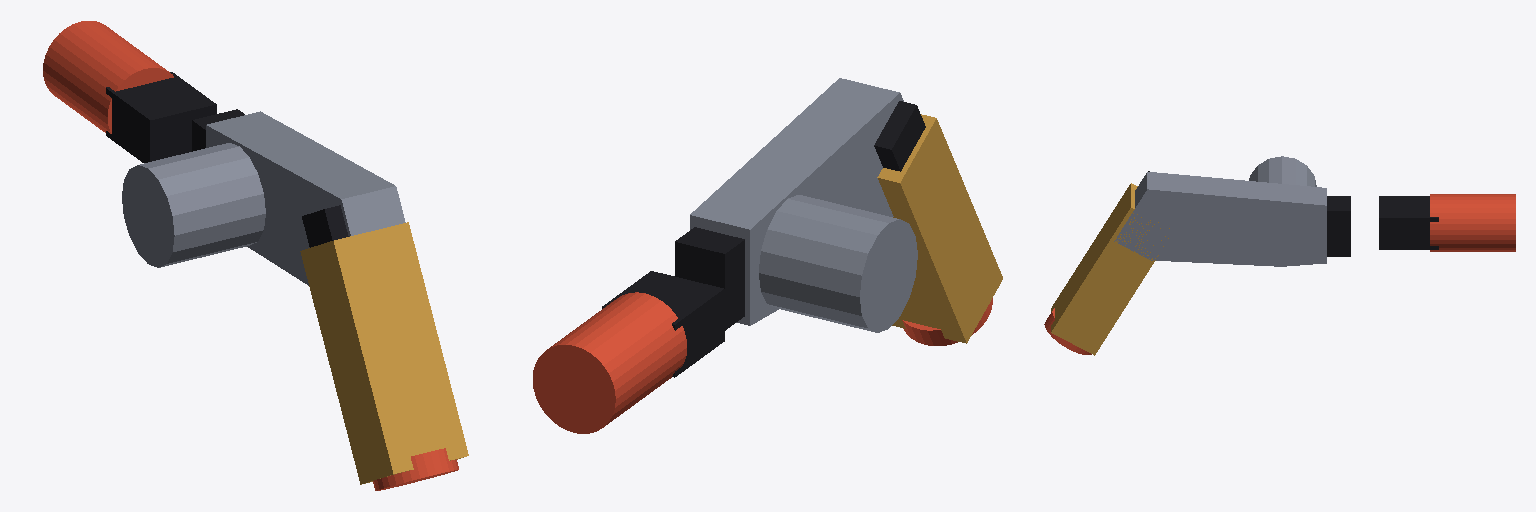
robot.urdf — g0039_c14:
<robot name="g0039_c14">
  <link name="palm">
    <visual name="palm_palm1">
      <origin xyz="0 0 0" rpy="0 0 0" />
      <geometry>
        <mesh filename="palm_palm1.obj" />
      </geometry>
      <material name="palm_palm1_mat">
        <color rgba="0.55 0.57 0.62 1" />
      </material>
    </visual>
    <collision>
      <origin xyz="0 0 0" rpy="0 0 0" />
      <geometry>
        <mesh filename="palm_palm1.obj" />
      </geometry>
    </collision>
    <visual name="palm_mount2">
      <origin xyz="0 0 0" rpy="0 0 0" />
      <geometry>
        <mesh filename="palm_mount2.obj" />
      </geometry>
      <material name="palm_mount2_mat">
        <color rgba="0.55 0.57 0.62 1" />
      </material>
    </visual>
    <collision>
      <origin xyz="0 0 0" rpy="0 0 0" />
      <geometry>
        <mesh filename="palm_mount2.obj" />
      </geometry>
    </collision>
    <visual name="palm_hinge3">
      <origin xyz="0 0.0225 2.7554553e-18" rpy="-3.14159265 1.57079633 0" />
      <geometry>
        <box size="0.029 0.034 0.02" />
      </geometry>
      <material name="palm_hinge3_mat">
        <color rgba="0.15 0.15 0.17 1" />
      </material>
    </visual>
    <collision>
      <origin xyz="0 0.0225 2.7554553e-18" rpy="-3.14159265 1.57079633 0" />
      <geometry>
        <box size="0.029 0.034 0.02" />
      </geometry>
    </collision>
    <visual name="palm_motor4">
      <origin xyz="-0.0045 -0.07625 0.00649519053" rpy="1.04719755 -3.061617e-17 -5.30287619e-17" />
      <geometry>
        <box size="0.029 0.034 0.02" />
      </geometry>
      <material name="palm_motor4_mat">
        <color rgba="0.15 0.15 0.17 1" />
      </material>
    </visual>
    <collision>
      <origin xyz="-0.0045 -0.07625 0.00649519053" rpy="1.04719755 -3.061617e-17 -5.30287619e-17" />
      <geometry>
        <box size="0.029 0.034 0.02" />
      </geometry>
    </collision>
    <inertial>
      <origin xyz="0 -0.0321059404 0.00293557031" rpy="1.57079633 0.0597647468 1.57079633" />
      <mass value="0.198730271" />
      <inertia ixx="3.79269065e-05" ixy="0" ixz="0" iyy="0.000218634286" iyz="0" izz="0.000237483087" />
    </inertial>
  </link>
  <link name="palm0">
    <visual name="palm0_palm1">
      <origin xyz="0 0 0" rpy="0 0 0" />
      <geometry>
        <mesh filename="palm0_palm1.obj" />
      </geometry>
      <material name="palm0_palm1_mat">
        <color rgba="0.55 0.57 0.62 1" />
      </material>
    </visual>
    <collision>
      <origin xyz="0 0 0" rpy="0 0 0" />
      <geometry>
        <mesh filename="palm0_palm1.obj" />
      </geometry>
    </collision>
    <visual name="palm0_motor2">
      <origin xyz="-0.0045 0.0425 -4.13318295e-18" rpy="-3.14159265 6.123234e-17 3.74939946e-33" />
      <geometry>
        <box size="0.029 0.034 0.02" />
      </geometry>
      <material name="palm0_motor2_mat">
        <color rgba="0.15 0.15 0.17 1" />
      </material>
    </visual>
    <collision>
      <origin xyz="-0.0045 0.0425 -4.13318295e-18" rpy="-3.14159265 6.123234e-17 3.74939946e-33" />
      <geometry>
        <box size="0.029 0.034 0.02" />
      </geometry>
    </collision>
    <inertial>
      <origin xyz="2.18213424e-19 0.0311311781 0.000161041722" rpy="1.57079633 0.00745605238 1.57079633" />
      <mass value="0.0707596465" />
      <inertia ixx="8.68407455e-06" ixy="0" ixz="0" iyy="2.24763627e-05" iyz="0" izz="2.43675112e-05" />
    </inertial>
  </link>
  <link name="f0_link0">
    <visual name="f0_link0_link1">
      <origin xyz="0.03375 0 0" rpy="0 4.06369831e-17 0" />
      <geometry>
        <box size="0.0915 0.033 0.029" />
      </geometry>
      <material name="f0_link0_link1_mat">
        <color rgba="0.80 0.62 0.30 1" />
      </material>
    </visual>
    <collision>
      <origin xyz="0.03375 0 0" rpy="0 4.06369831e-17 0" />
      <geometry>
        <box size="0.0915 0.033 0.029" />
      </geometry>
    </collision>
    <inertial>
      <origin xyz="0.03375 0 0" rpy="0 0 0" />
      <mass value="0.153239625" />
      <inertia ixx="2.46460397e-05" ixy="0" ixz="0" iyy="0.000117652915" iyz="0" izz="0.000120819867" />
    </inertial>
  </link>
  <link name="f0_link1">
    <visual name="f0_link1_link1">
      <origin xyz="0.009 0 -1.38777878e-17" rpy="-1.57079633 -0 -1.57079633" />
      <geometry>
        <cylinder radius="0.0165" length="0.009" />
      </geometry>
      <material name="f0_link1_link1_mat">
        <color rgba="0.85 0.35 0.25 1" />
      </material>
    </visual>
    <collision>
      <origin xyz="0.009 0 -1.38777878e-17" rpy="-1.57079633 -0 -1.57079633" />
      <geometry>
        <cylinder radius="0.0165" length="0.009" />
      </geometry>
    </collision>
    <inertial>
      <origin xyz="0.009 0 0" rpy="0 0 0" />
      <mass value="0.046399949" />
      <inertia ixx="5.41970115e-06" ixy="0" ixz="0" iyy="7.09430898e-06" iyz="0" izz="7.09430898e-06" />
    </inertial>
  </link>
  <link name="f1_link0">
    <visual name="f1_link0_link1">
      <origin xyz="0.029 0 0" rpy="-1.57079633 -0 -1.57079633" />
      <geometry>
        <cylinder radius="0.0165" length="0.049" />
      </geometry>
      <material name="f1_link0_link1_mat">
        <color rgba="0.85 0.35 0.25 1" />
      </material>
    </visual>
    <collision>
      <origin xyz="0.029 0 0" rpy="-1.57079633 -0 -1.57079633" />
      <geometry>
        <cylinder radius="0.0165" length="0.049" />
      </geometry>
    </collision>
    <inertial>
      <origin xyz="0.029 0 0" rpy="0 0 0" />
      <mass value="0.106270851" />
      <inertia ixx="1.35696277e-05" ixy="0" ixz="0" iyy="5.30015704e-05" iyz="0" izz="5.30015704e-05" />
    </inertial>
  </link>
  <joint name="palm0_joint" type="revolute">
    <parent link="palm" />
    <child link="palm0" />
    <origin xyz="0 0.03 3.6739404e-18" rpy="0 0 0" />
    <axis xyz="0 1.2246468e-16 -1" />
    <limit effort="0.5" lower="-0.523598776" upper="0.523598776" velocity="5" />
    <dynamics damping="0.0775033" friction="0" />
  </joint>
  <joint name="f0_j0" type="revolute">
    <parent link="palm" />
    <child link="f0_link0" />
    <origin xyz="-0.0045 -0.08 0" rpy="0 1.04719755 -1.57079633" />
    <axis xyz="0 1 6.123234e-17" />
    <limit effort="0.5" lower="-0.523598776" upper="0.523598776" velocity="5" />
    <dynamics damping="0.0775033" friction="0" />
  </joint>
  <joint name="f0_j1" type="revolute">
    <parent link="f0_link0" />
    <child link="f0_link1" />
    <origin xyz="0.07 0 0" rpy="0 0 0" />
    <axis xyz="0 0 1" />
    <limit effort="0.5" lower="-0.523598776" upper="1.57079633" velocity="5" />
    <dynamics damping="0.0775033" friction="0" />
  </joint>
  <joint name="f1_j0" type="revolute">
    <parent link="palm0" />
    <child link="f1_link0" />
    <origin xyz="-0.0045 0.05 -3.6739404e-18" rpy="-3.14159265 -6.123234e-17 1.57079633" />
    <axis xyz="0 1 6.123234e-17" />
    <limit effort="0.5" lower="-0.523598776" upper="0.523598776" velocity="5" />
    <dynamics damping="0.0775033" friction="0" />
  </joint>
</robot>

--- Render facts (derived) ---
3 views of the same robot in one strip: view 1: azimuth 30°, elevation 25°; view 2: azimuth 150°, elevation 25°; view 3: azimuth 270°, elevation 25° (orthographic).
Model g0039_c14 with 5 links and 4 joints (4 revolute), rooted at palm, posed every joint at zero.
Links seen in each view (by area): view 1: palm, f0_link0, f1_link0, palm0, f0_link1; view 2: palm, f0_link0, f1_link0, palm0, f0_link1; view 3: palm, f0_link0, f1_link0, palm0.
Link boxes in pixels (x1=…): palm: x1=122, y1=109, x2=405, y2=285; f0_link0: x1=300, y1=222, x2=468, y2=484; f1_link0: x1=43, y1=21, x2=173, y2=133; palm0: x1=106, y1=72, x2=216, y2=162; f0_link1: x1=373, y1=448, x2=458, y2=490; palm: x1=675, y1=78, x2=925, y2=332; f0_link0: x1=877, y1=114, x2=1002, y2=343; f1_link0: x1=533, y1=292, x2=686, y2=433; palm0: x1=602, y1=271, x2=724, y2=377; f0_link1: x1=902, y1=298, x2=992, y2=345; palm: x1=1114, y1=156, x2=1350, y2=266; f0_link0: x1=1051, y1=183, x2=1169, y2=355; f1_link0: x1=1430, y1=194, x2=1515, y2=251; palm0: x1=1379, y1=196, x2=1438, y2=249.
Bounding box of the posed robot: 0.064 × 0.2695 × 0.1095 m (x, y, z).
Meshes: 3 distinct files referenced, 2 mesh visuals loaded (2 OBJ); not drawn: 1 (reference not matched to a file when rendering).
